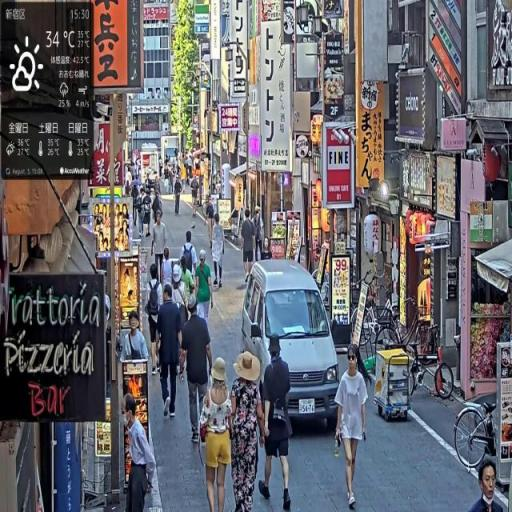person: (228, 349, 268, 512), (260, 331, 295, 512), (334, 344, 370, 512), (199, 356, 235, 512), (179, 296, 214, 445), (156, 283, 184, 422), (125, 396, 156, 512), (469, 459, 509, 512), (147, 263, 164, 376), (195, 252, 214, 337), (151, 209, 170, 287), (241, 207, 257, 285), (212, 212, 227, 291), (181, 231, 200, 283), (191, 176, 201, 219), (174, 174, 183, 216)
